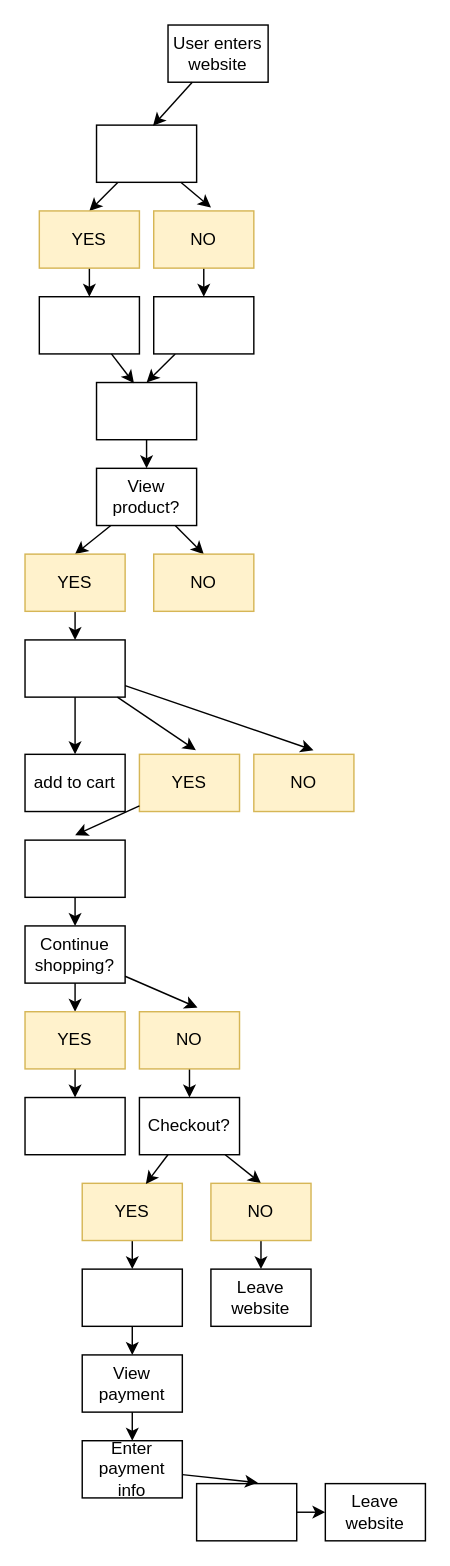
Some shapes in this 450 by 1566 pixel diagram are drawn without their labels. The centre of each missing label's shape, as x and y in pixels:
"add confirmation" goes at (x=74, y=868).
"Browse products" goes at (x=146, y=410).
"Enter search input" goes at (x=88, y=324).
"Explore home page" goes at (x=203, y=324).
"Order confirmation" goes at (x=246, y=1511).
"Product page" goes at (x=74, y=667).
"Search for product?" goes at (x=146, y=153).
"Search product?" goes at (x=74, y=1125).
"View cart" goes at (x=131, y=1297).
